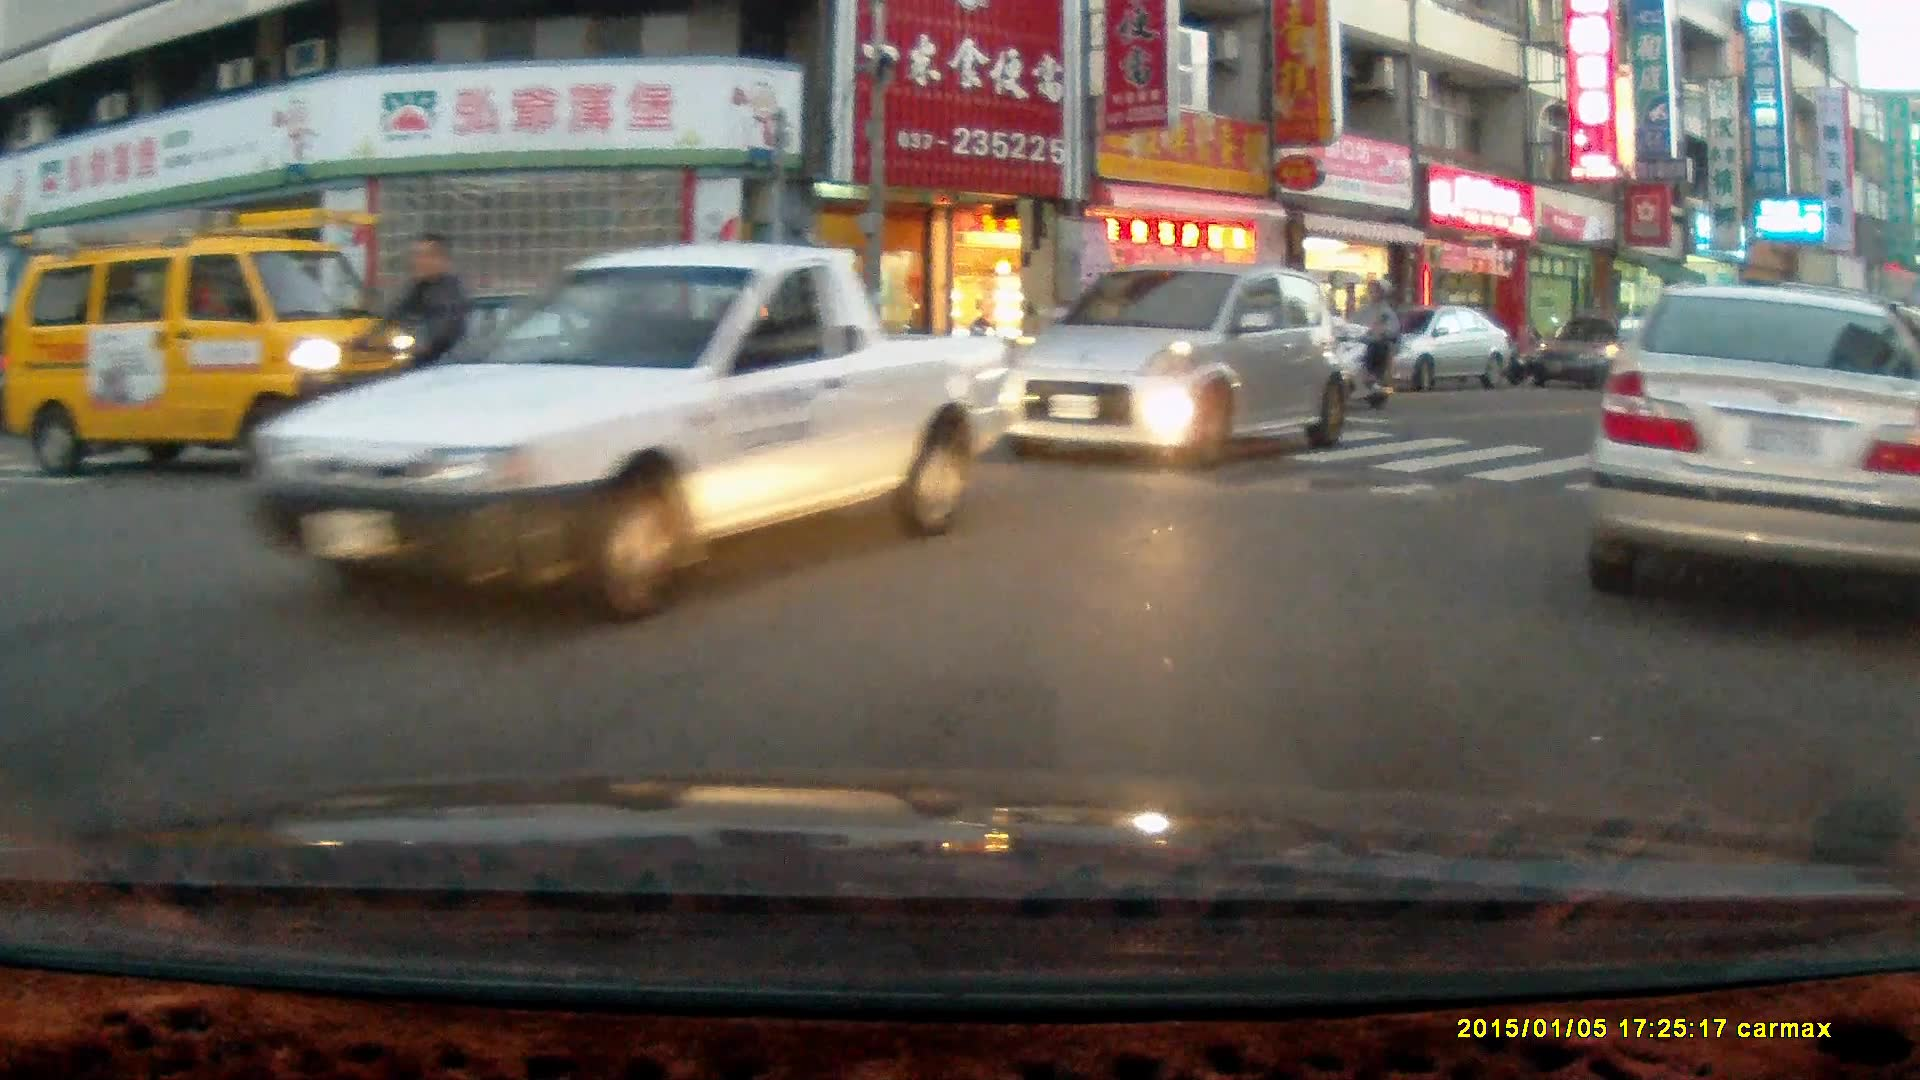rider: (313, 230, 529, 491), (1333, 271, 1401, 412)
vehicle: (227, 237, 1015, 630), (1, 204, 433, 476), (1592, 280, 1907, 633), (992, 261, 1353, 471), (1364, 304, 1511, 388), (1522, 313, 1642, 388)
